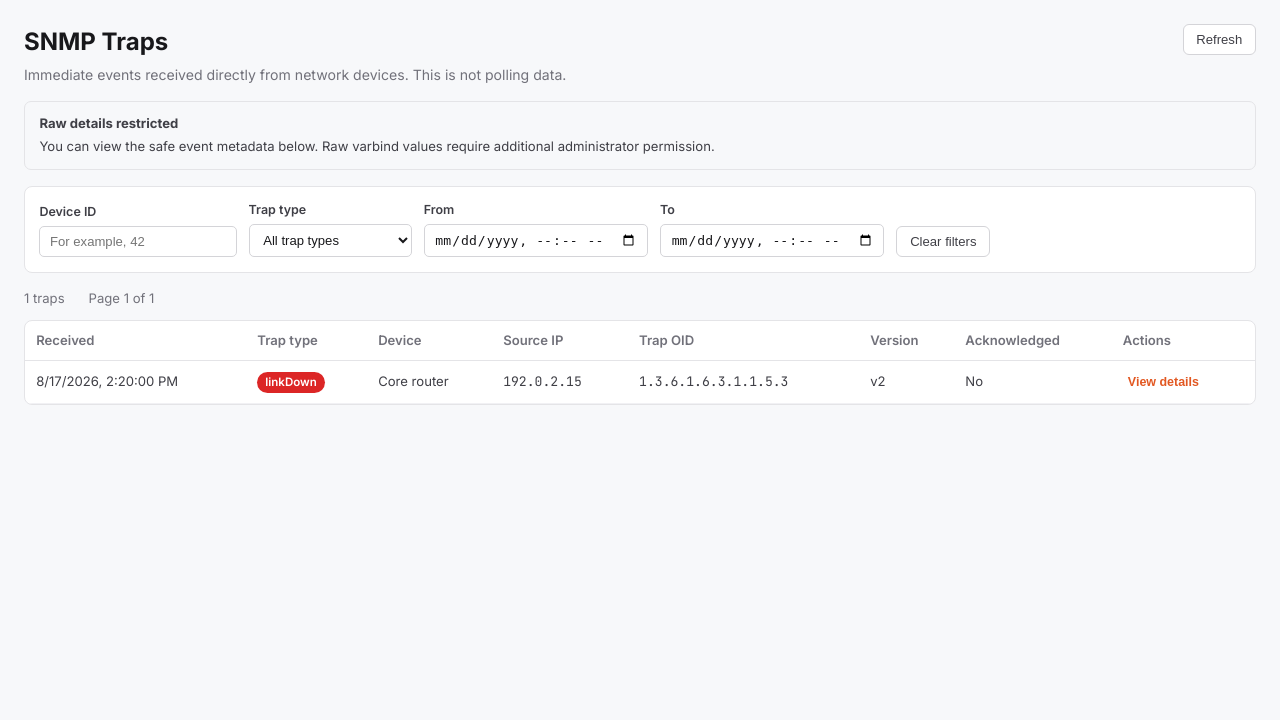
SnmpTraps privacy and permissions › shows the restricted state and never requests raw detail without permission
Expected: the text "Raw details restricted" is shown, [39, 115, 178, 131]
Step 1. Click the button "View details" → [1163, 382], box [1123, 372, 1204, 392]
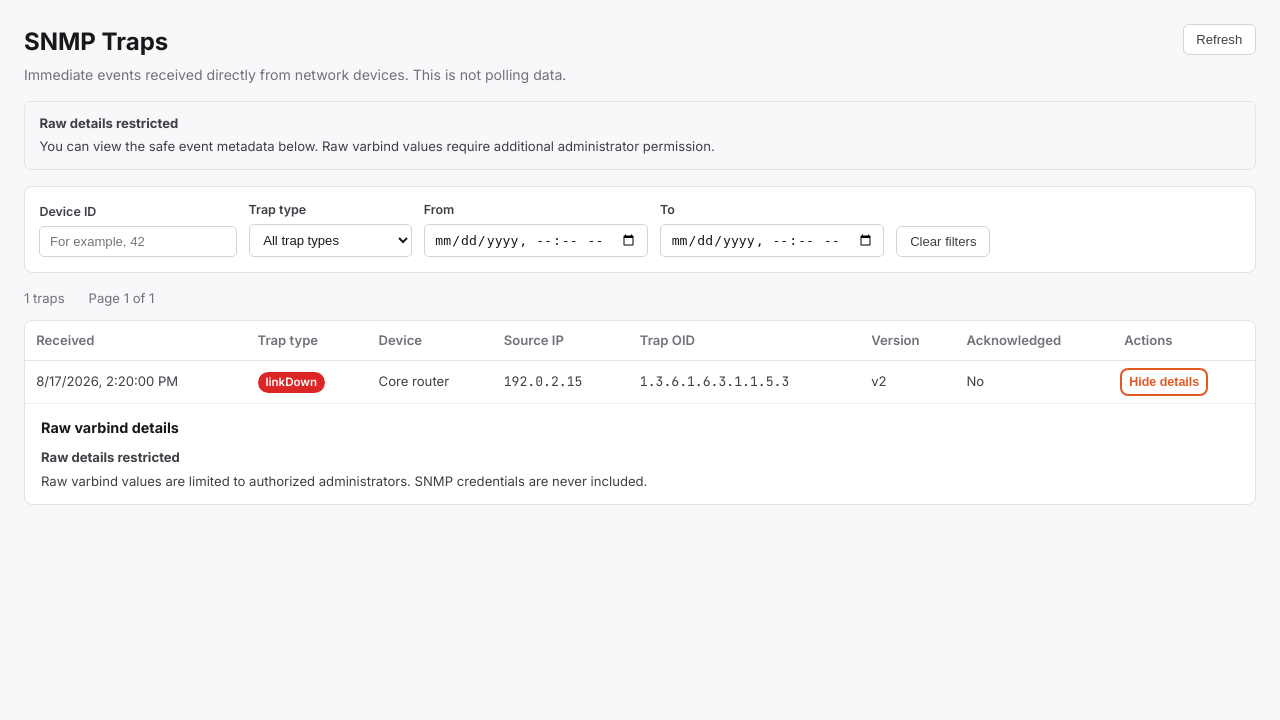
Expected: the text "Raw details restricted" is shown 2 times, [39, 115, 178, 131]; [41, 449, 180, 465]
Expected: the text "limited to authorized administrators" is shown, [41, 473, 647, 489]
